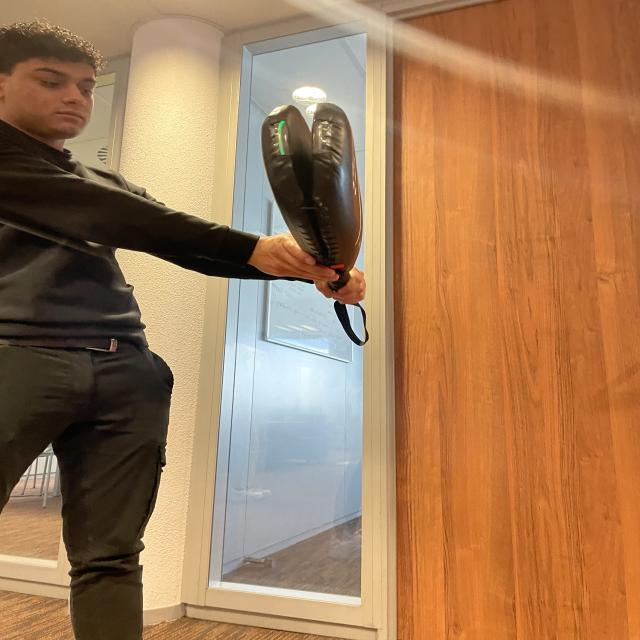paddle: (260, 102, 359, 261)
trigger: (273, 115, 295, 157)
